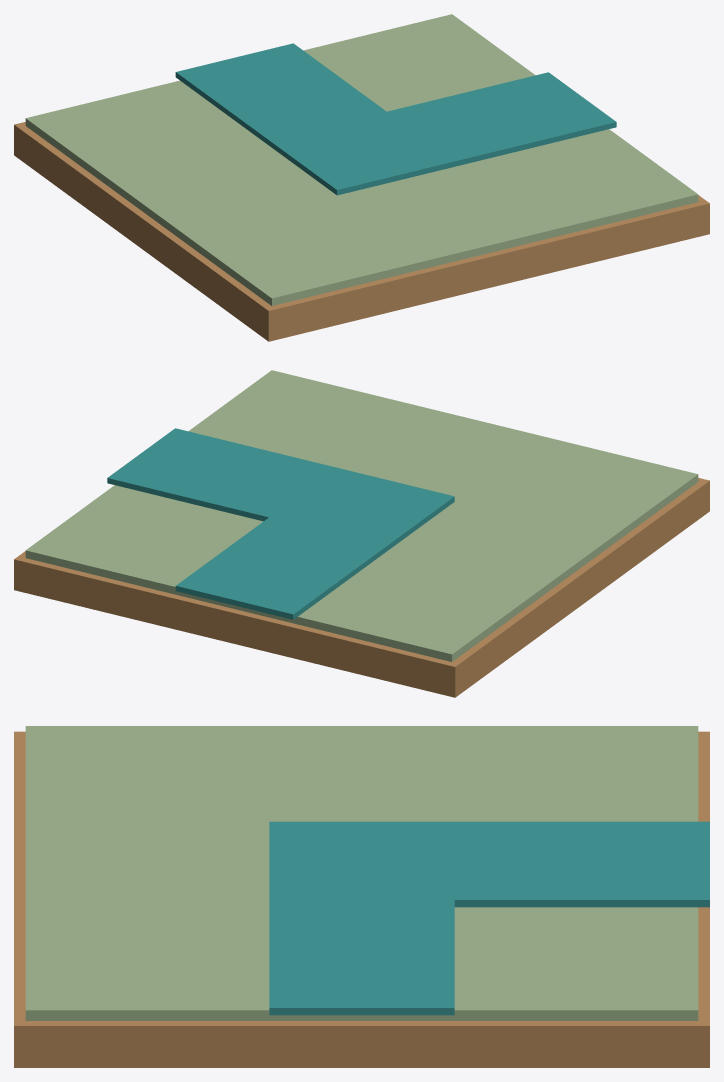
The model's file is tabletop-game-components-canal-elbow-47ee2349__20862.glb.
3 renders of one model, top to bottom at view 1: azimuth 30°, elevation 25°; view 2: azimuth 150°, elevation 25°; view 3: azimuth 270°, elevation 25°, orthographic. The views are drawn at different scales.
Visible parts, largest first — view 1: canal-elbow; view 2: canal-elbow; view 3: canal-elbow.
Boxes of the visible parts, left/top/right/bottom form: canal-elbow: left=14, top=14, right=709, bottom=341; canal-elbow: left=14, top=370, right=709, bottom=697; canal-elbow: left=14, top=726, right=709, bottom=1067.
Size of the model in its own units: 0.06 by 0.0057 by 0.06.
